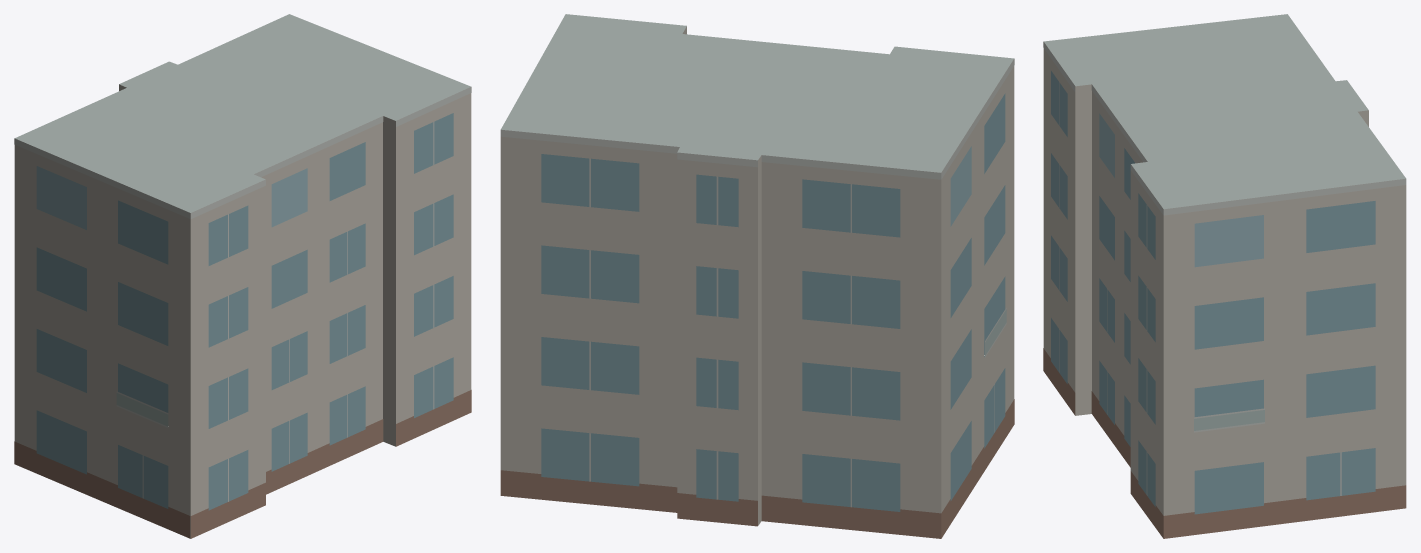
Rendered from survey-upis-32931174.glb.
3 views of the same model, side by side, from view 1: azimuth 30°, elevation 25°; view 2: azimuth 150°, elevation 25°; view 3: azimuth 270°, elevation 25° (orthographic). The views are drawn at different scales.
Visible parts, largest first — view 1: survey-upis-32931174.tmp; view 2: survey-upis-32931174.tmp; view 3: survey-upis-32931174.tmp.
Part boxes in pixels (box(x1,y1,x2,y2)): survey-upis-32931174.tmp: box(14, 14, 471, 538); survey-upis-32931174.tmp: box(500, 14, 1014, 538); survey-upis-32931174.tmp: box(1043, 14, 1406, 538).
Bounding box in the file's own units: 16.28 × 12.8 × 12.78.
